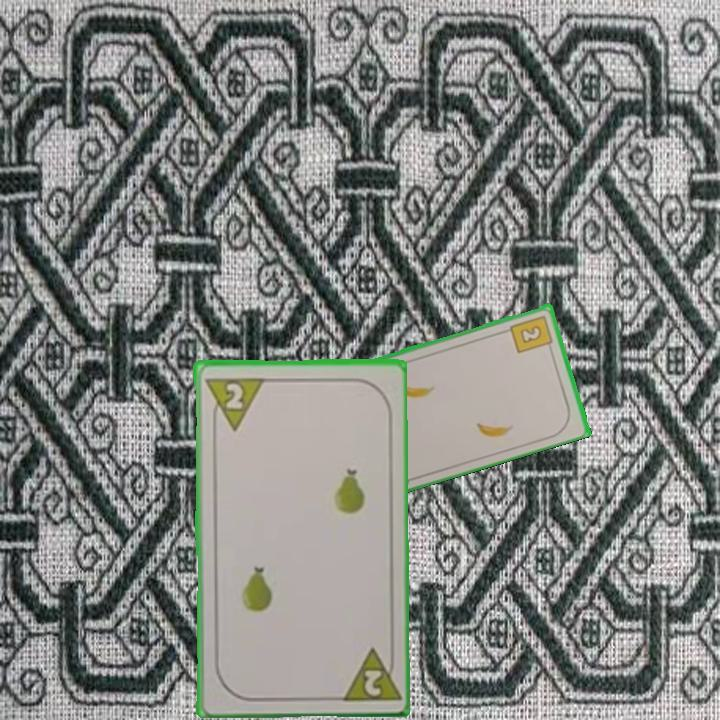2b: (507, 312, 556, 356)
2p: (335, 643, 400, 704), (200, 373, 265, 433)
